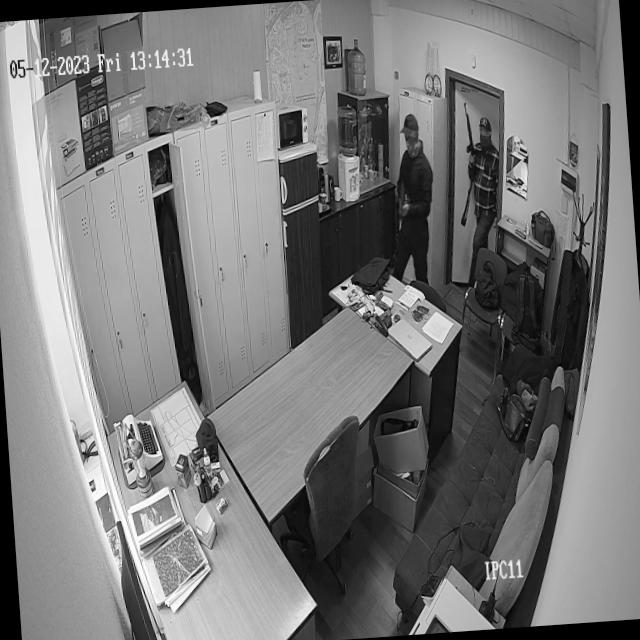gun: (460, 100, 478, 166), (396, 177, 409, 224)
person with a gun: (392, 108, 435, 279), (467, 118, 500, 253)
